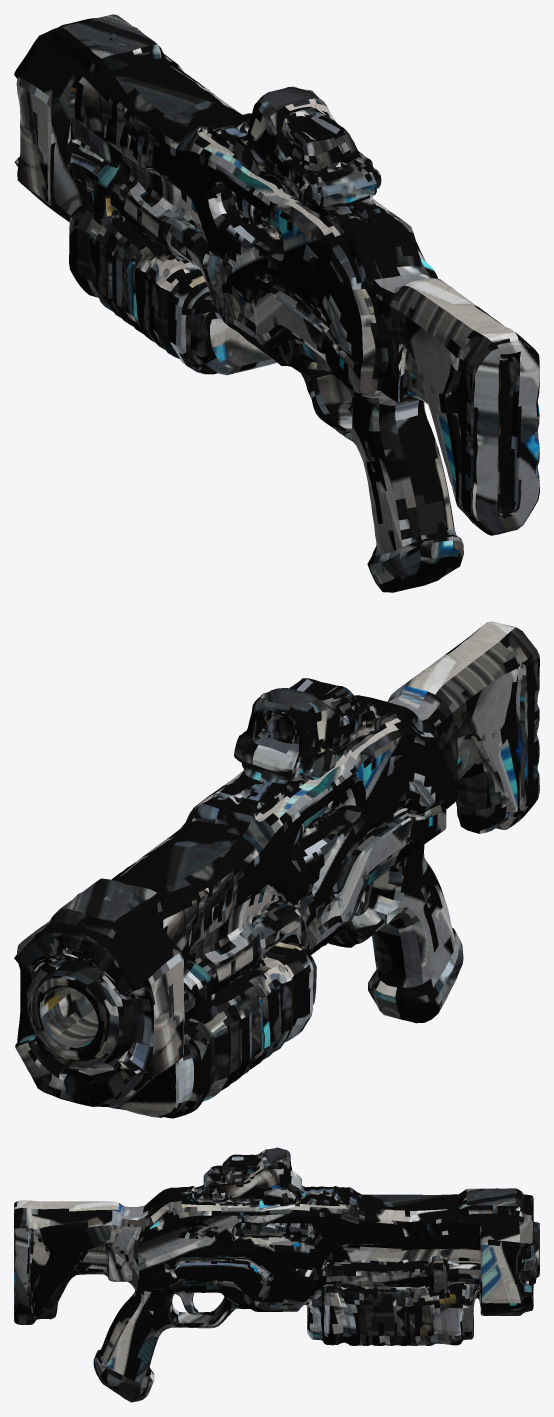
The model's file is Sci-fi_Shotgun_Low50k.fbx.
The picture shows the model from 3 angles, top to bottom: view 1: azimuth 30°, elevation 25°; view 2: azimuth 150°, elevation 25°; view 3: azimuth 270°, elevation 25°; orthographic projection. The views are drawn at different scales.
Visible parts, largest first — view 1: Sci-fi_Shotgun_Low; view 2: Sci-fi_Shotgun_Low; view 3: Sci-fi_Shotgun_Low.
Boxes of the visible parts, x1,y1,x2,y2 form: Sci-fi_Shotgun_Low: (14,14,539,592); Sci-fi_Shotgun_Low: (14,621,539,1118); Sci-fi_Shotgun_Low: (14,1147,539,1402).
Size of the model in its own units: 18.25 by 51.06 by 99.89.
1 material, 1 textured.
